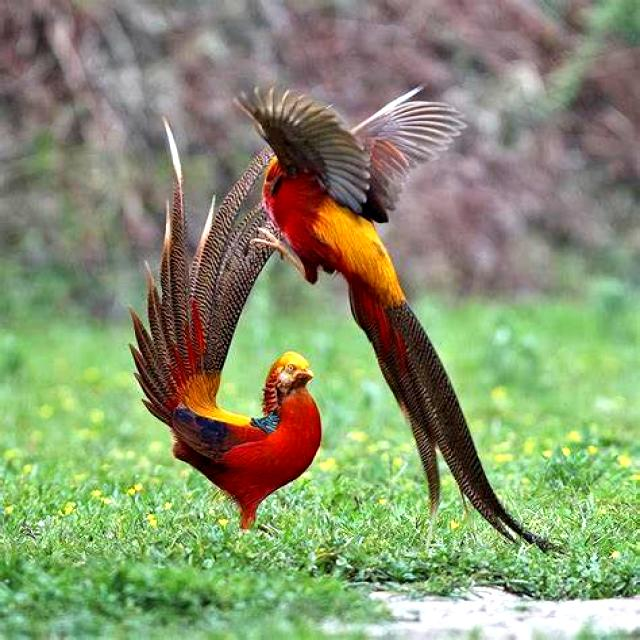Chrysolophus pictus feather: (131, 122, 298, 425), (351, 302, 548, 551)
